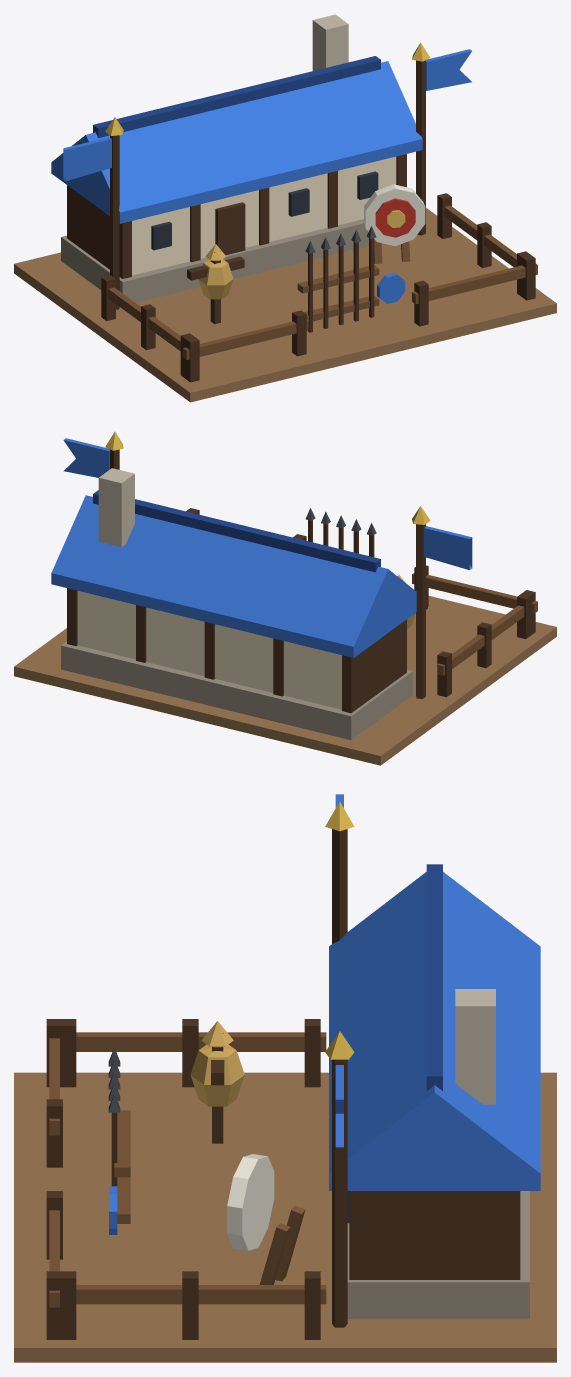
The model's file is bld_barracks.glb.
The picture shows the model from 3 angles, top to bottom: view 1: azimuth 30°, elevation 25°; view 2: azimuth 150°, elevation 25°; view 3: azimuth 270°, elevation 25°; orthographic projection. The views are drawn at different scales.
Visible parts, largest first — view 1: bld_barracks; view 2: bld_barracks; view 3: bld_barracks.
Boxes of the visible parts, left/top/right/bottom form: bld_barracks: left=14, top=14, right=556, bottom=402; bld_barracks: left=14, top=431, right=556, bottom=765; bld_barracks: left=14, top=794, right=556, bottom=1362.
Size of the model in its own units: 0.532 by 0.2512 by 0.4.
